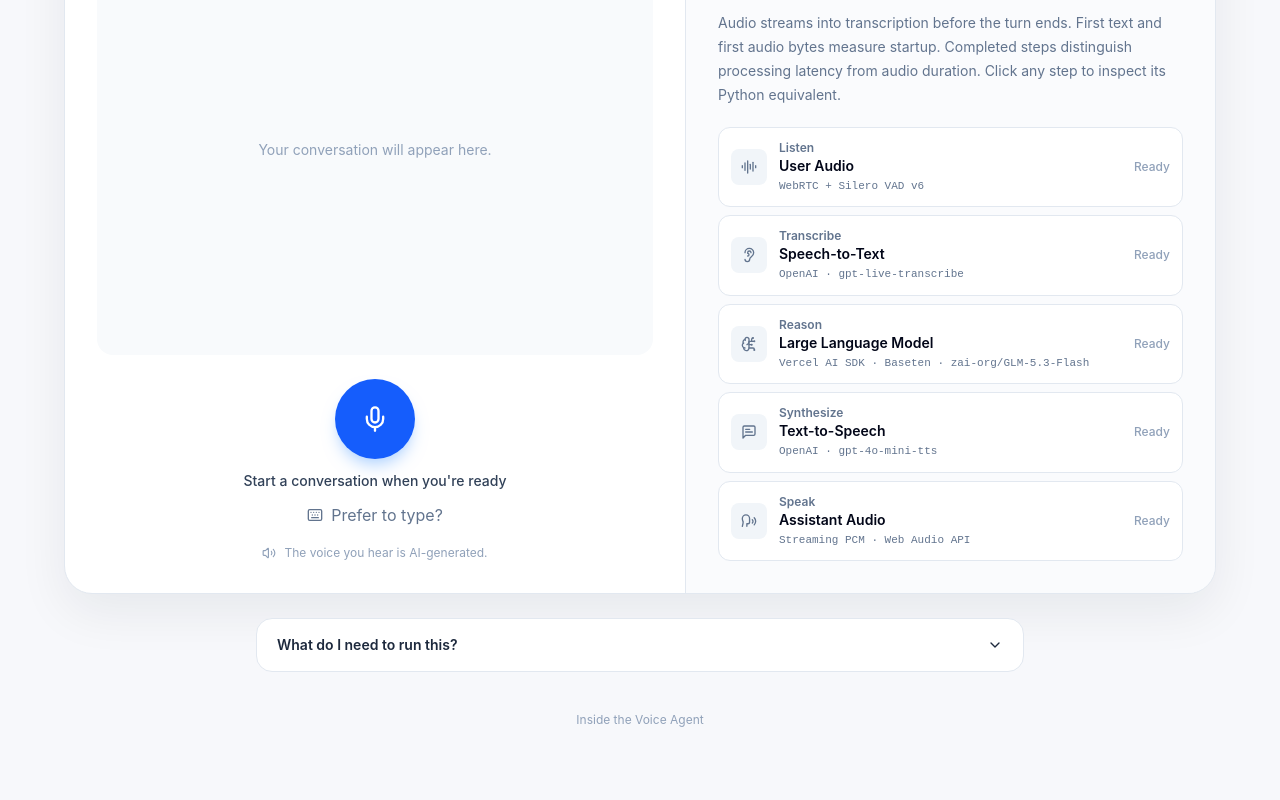
Scenario: AppShell › reveals the text fallback
(page scrolled)
Step 1. Click the button "Prefer to type?" → {"x": 375, "y": 515}, box x1=307 y1=503 x2=443 y2=527
(page scrolled)
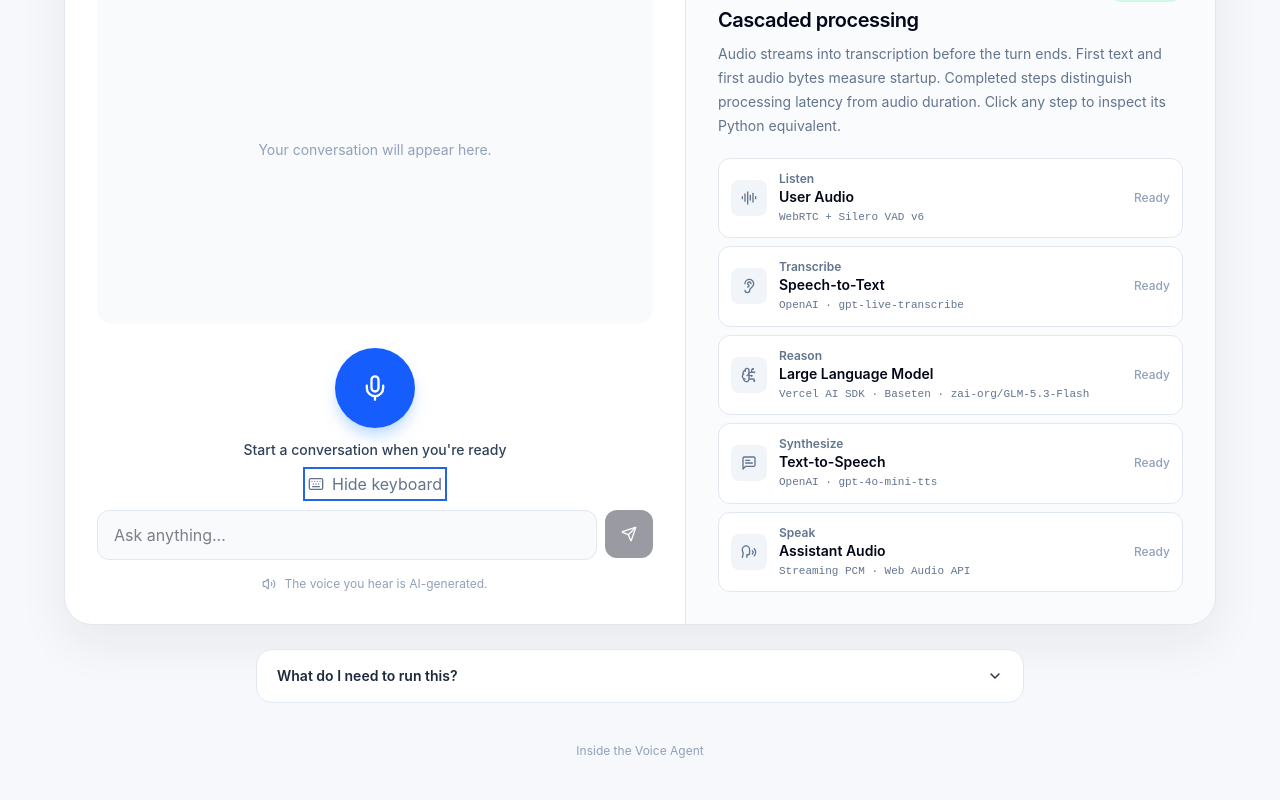
Now the field named "Message the voice agent" is shown, box x1=97 y1=510 x2=597 y2=560
